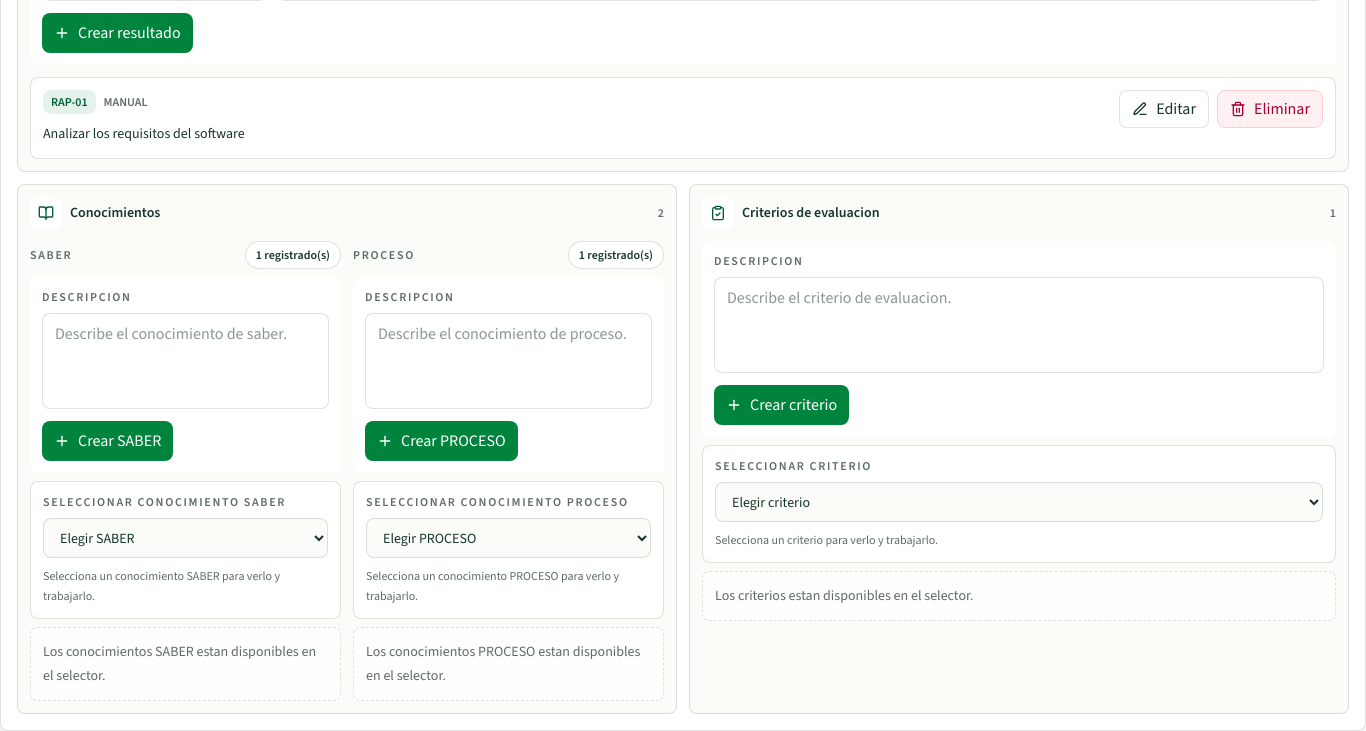
Test case: ProgramaCompetenciasManager › should render competencia as the container for resultados, conocimientos and criterios
(page scrolled)
Expected: the heading "Conocimientos" is shown, top-left (70, 203), bottom-right (160, 223)
Expected: the heading "Criterios de evaluacion" is shown, top-left (742, 203), bottom-right (880, 223)
Select "Arquitectura por competencia" in the dropdown labelled "Seleccionar conocimiento SABER" at (186, 538), box top-left (43, 518), bottom-right (328, 558)
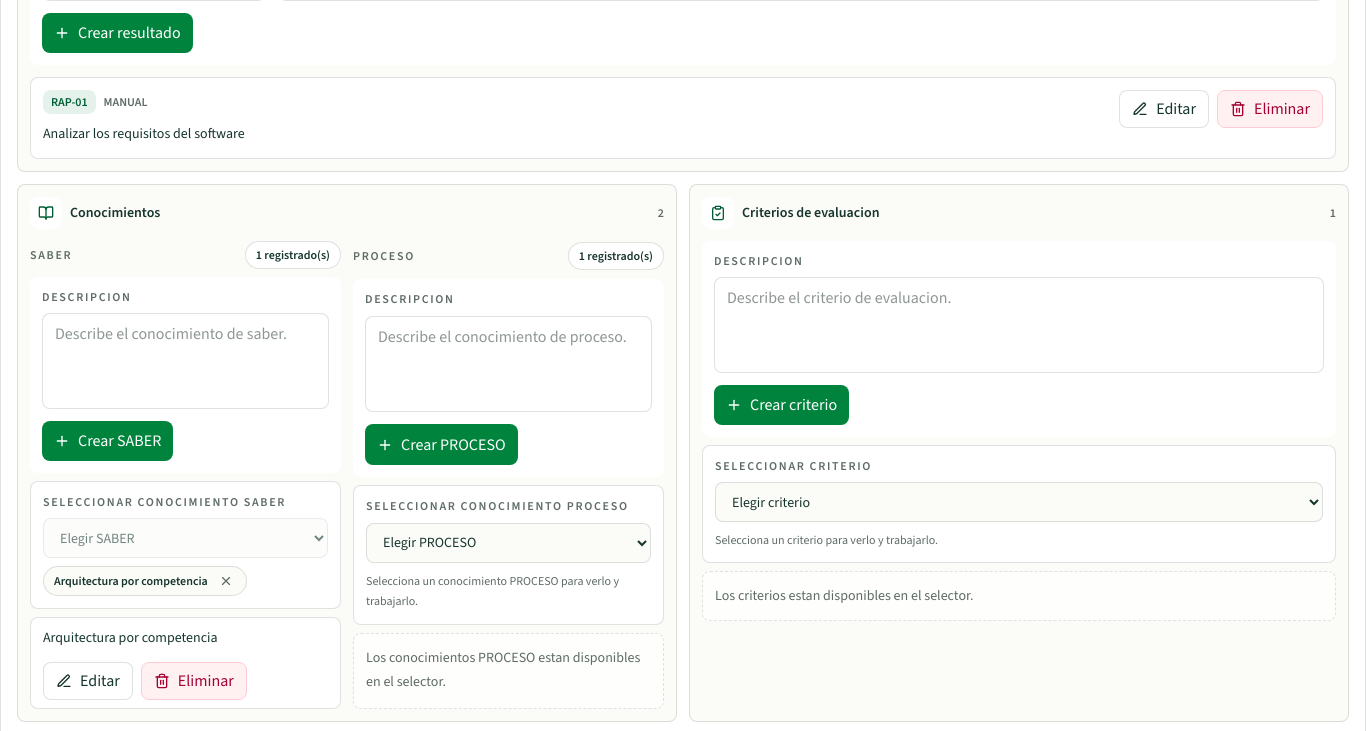
Select "Codificar solucion por competencia" in the dropdown labelled "Seleccionar conocimiento PROCESO" at (508, 543), box top-left (366, 522), bottom-right (651, 563)
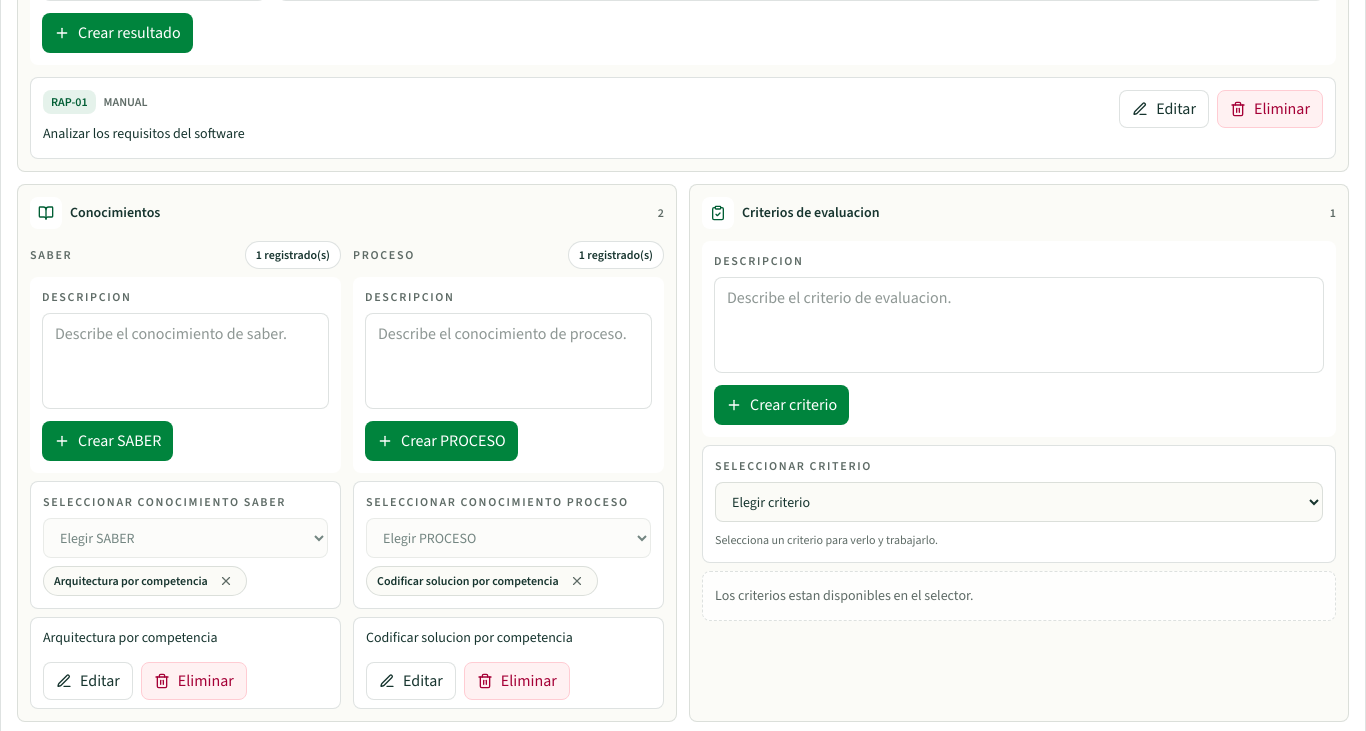
Select "Verifica componentes por competencia" in the dropdown labelled "Seleccionar criterio" at (1019, 502), box top-left (715, 482), bottom-right (1323, 522)
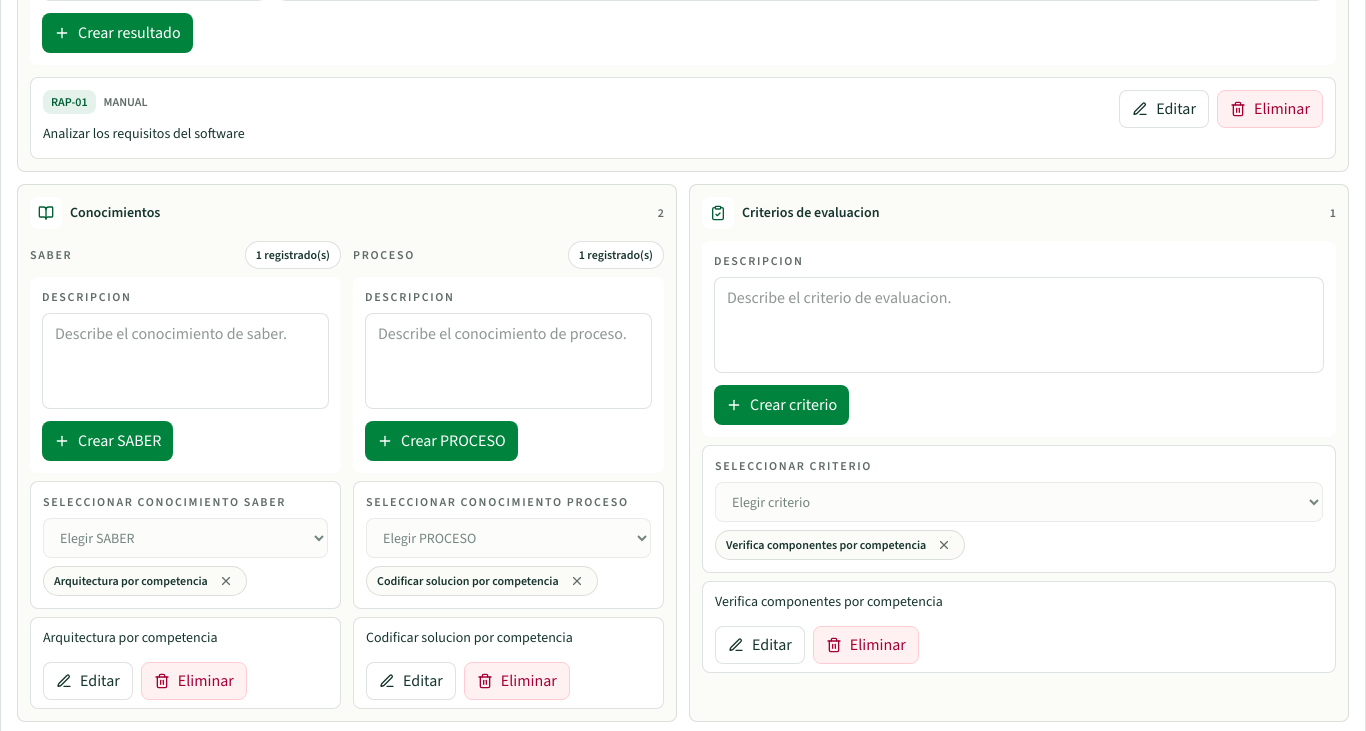
Expected: the text "Arquitectura por competencia" is shown 2 times, top-left (54, 573), bottom-right (208, 589); top-left (43, 628), bottom-right (218, 647)
Expected: the text "Verifica componentes por competencia" is shown 2 times, top-left (726, 537), bottom-right (926, 553); top-left (715, 592), bottom-right (943, 611)
